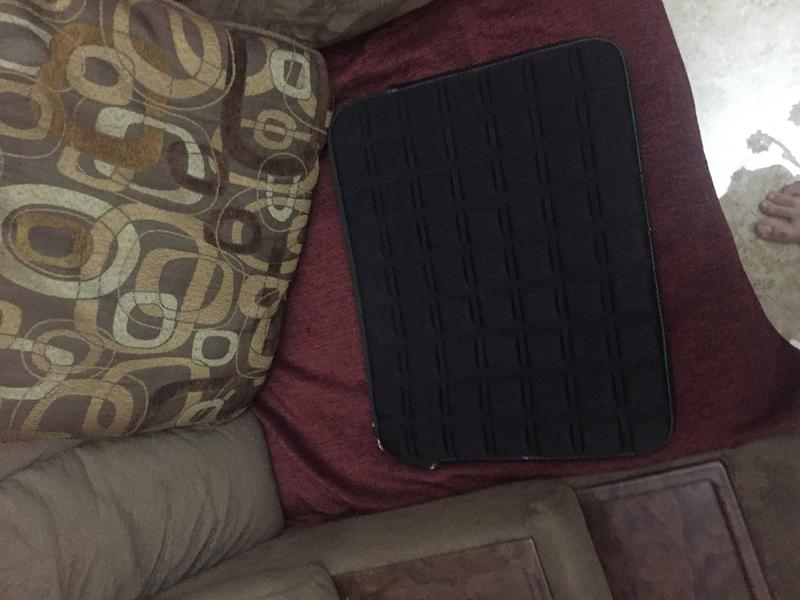cover: (324, 34, 683, 480)
